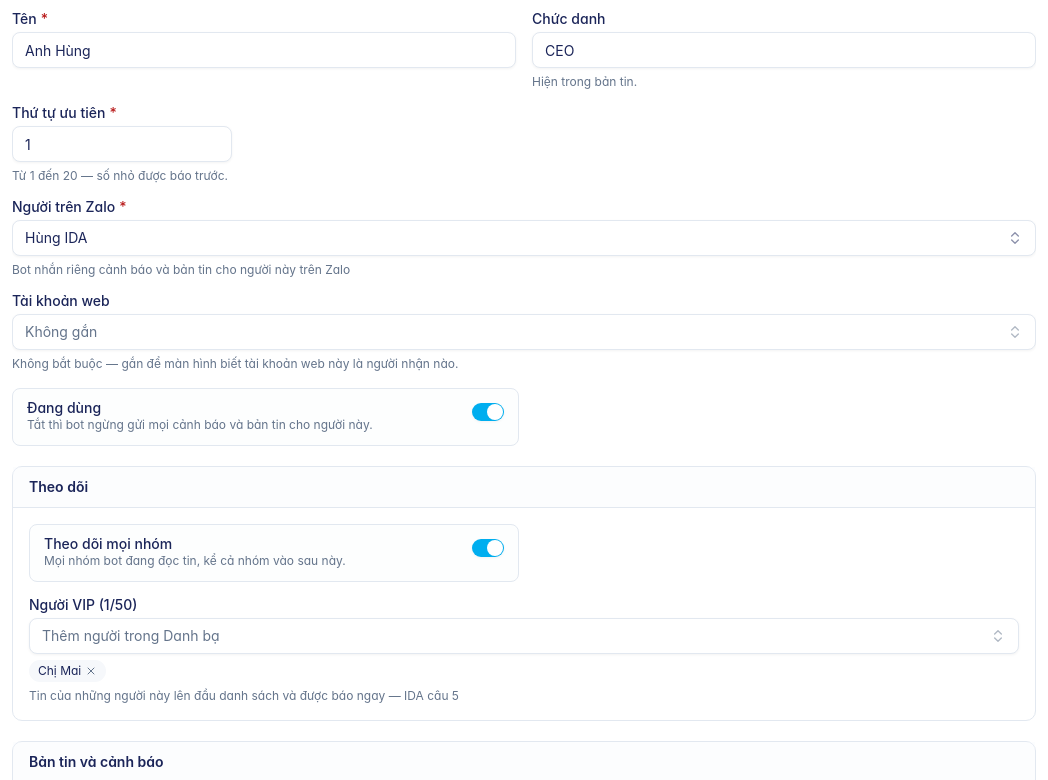
it: recipient form › hides the watched-group picker when «watch every group» is on
Expected: the text "Nhóm theo dõi" is not shown
Click the switch named "Theo dõi mọi nhóm" in the row of "Theo dõi mọi nhóm" at (488, 548), box [472, 539, 504, 557]
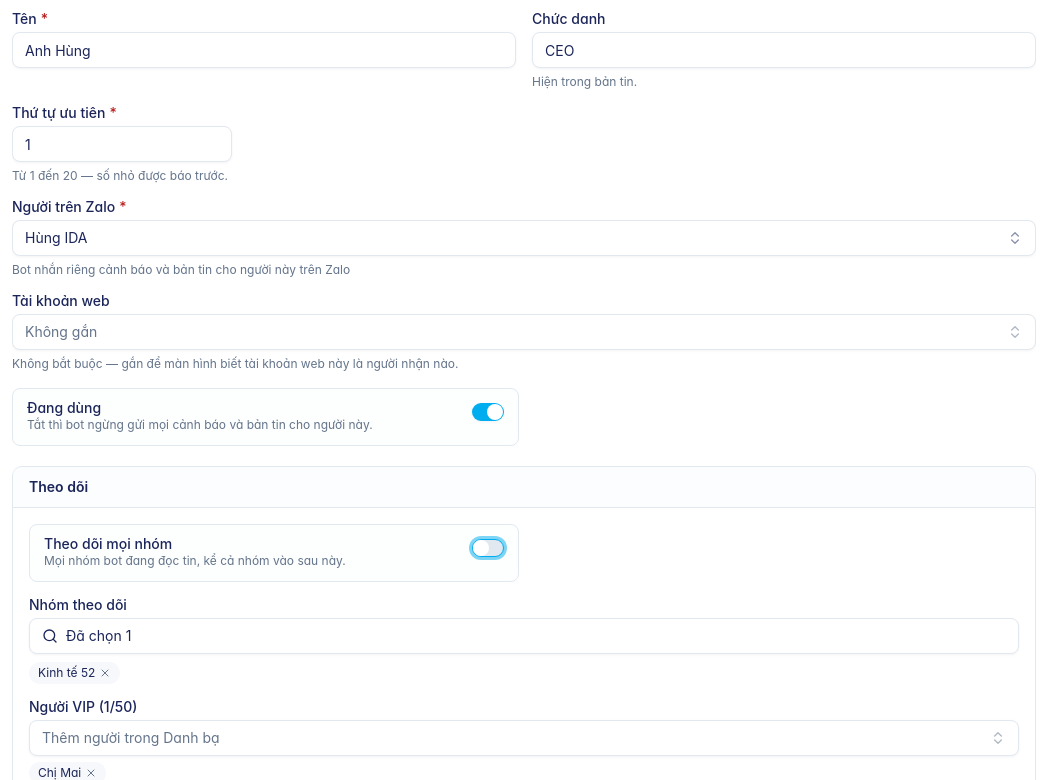
Expected: the text "Nhóm theo dõi" is shown, [29, 596, 127, 613]
